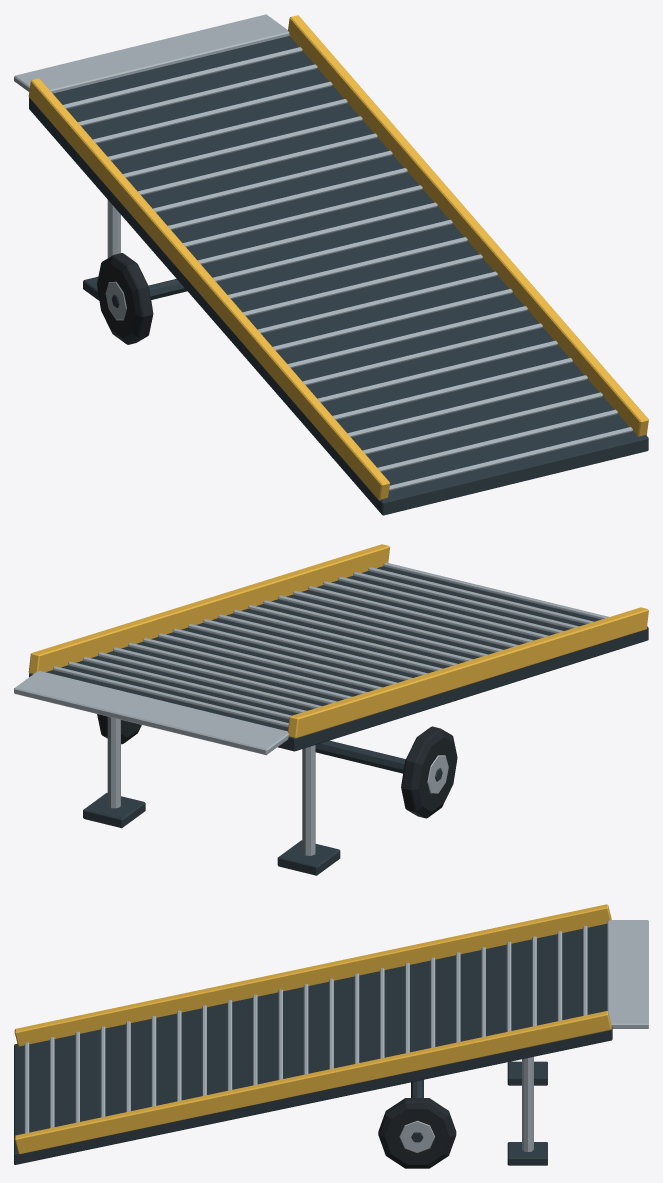
Rendered from b14_mobile_yard_loading_ramp.glb.
3 views of the same model, one above another, from view 1: azimuth 30°, elevation 25°; view 2: azimuth 150°, elevation 25°; view 3: azimuth 270°, elevation 25° (orthographic). The views are drawn at different scales.
Parts seen in each view (by area): view 1: b14_mobile_yard_loading_ramp; view 2: b14_mobile_yard_loading_ramp; view 3: b14_mobile_yard_loading_ramp.
Boxes of the visible parts, bbox=[...] form: b14_mobile_yard_loading_ramp: bbox=[14, 14, 648, 515]; b14_mobile_yard_loading_ramp: bbox=[14, 544, 648, 875]; b14_mobile_yard_loading_ramp: bbox=[14, 904, 648, 1168].
Bounding box in the file's own units: 2.43 × 1.35 × 4.88.
